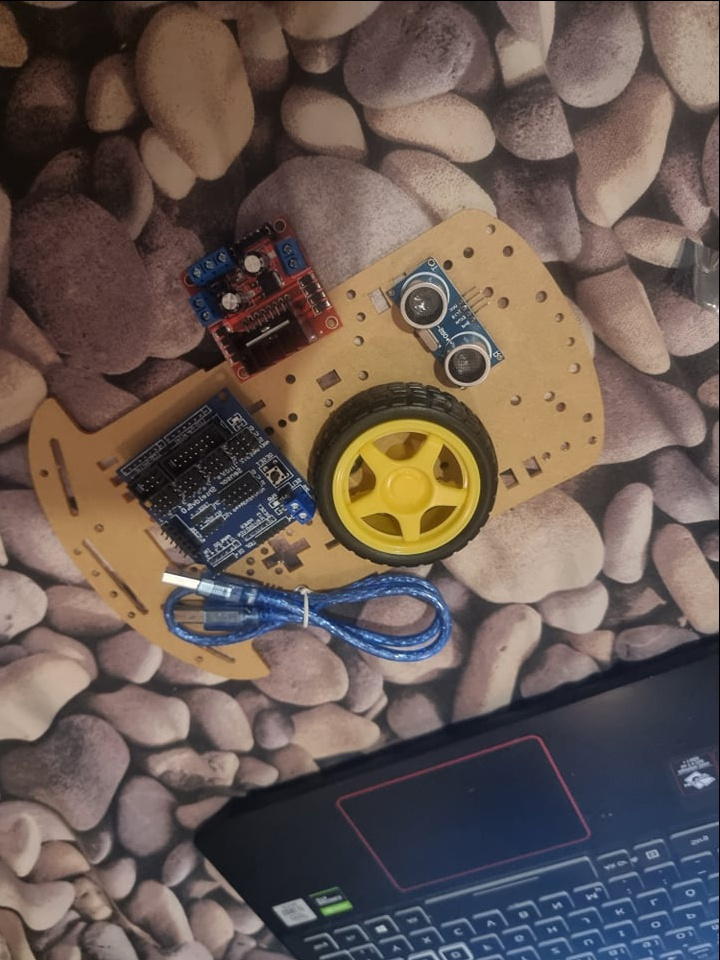5V EXPANSION: (120, 384, 313, 565)
MOTOR: (179, 211, 341, 379)
SENSOR: (390, 260, 499, 387)
